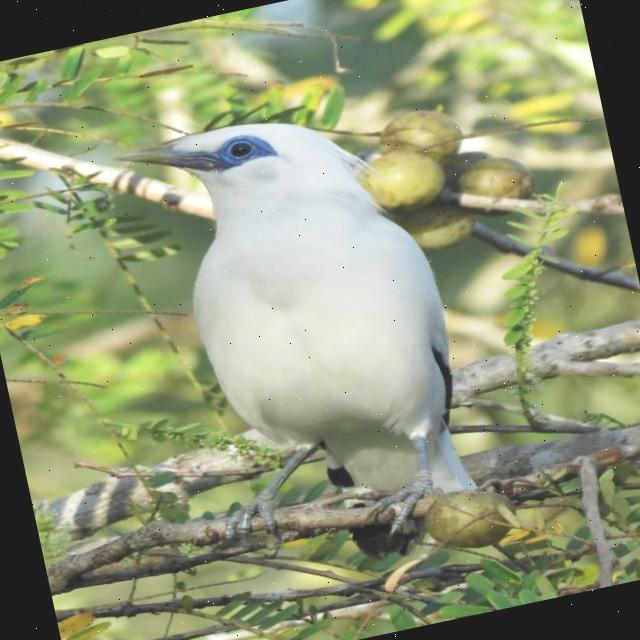Jalak Bali: (99, 75, 513, 610)
